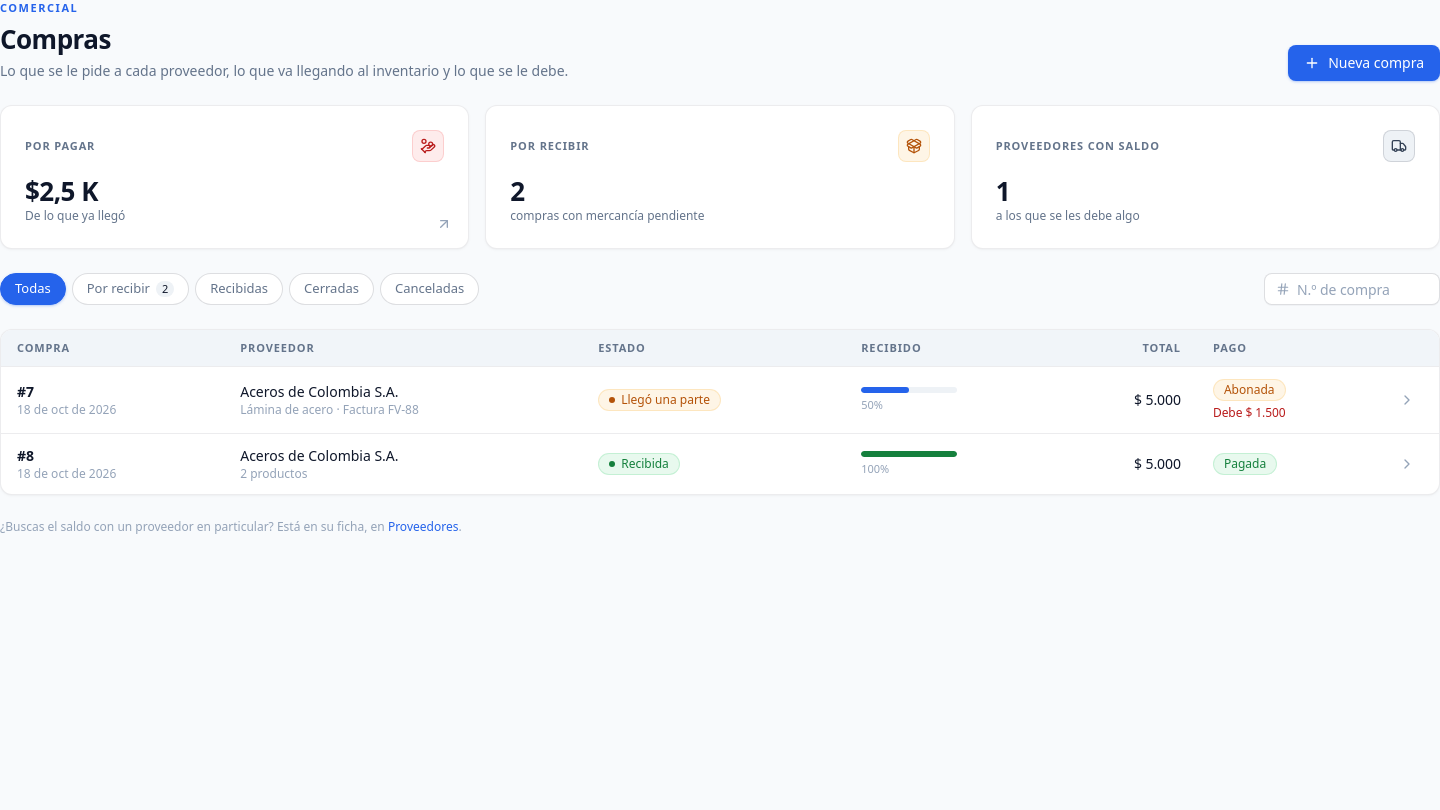
Test: PurchaseOrdersPage › opens the new purchase form only for an ADMIN
The image size is (1440, 810).
Expected: the text "#7" is shown, x1=17 y1=382 x2=34 y2=401
Click the button "Nueva compra": [1364, 63] box x1=1288 y1=45 x2=1439 y2=81
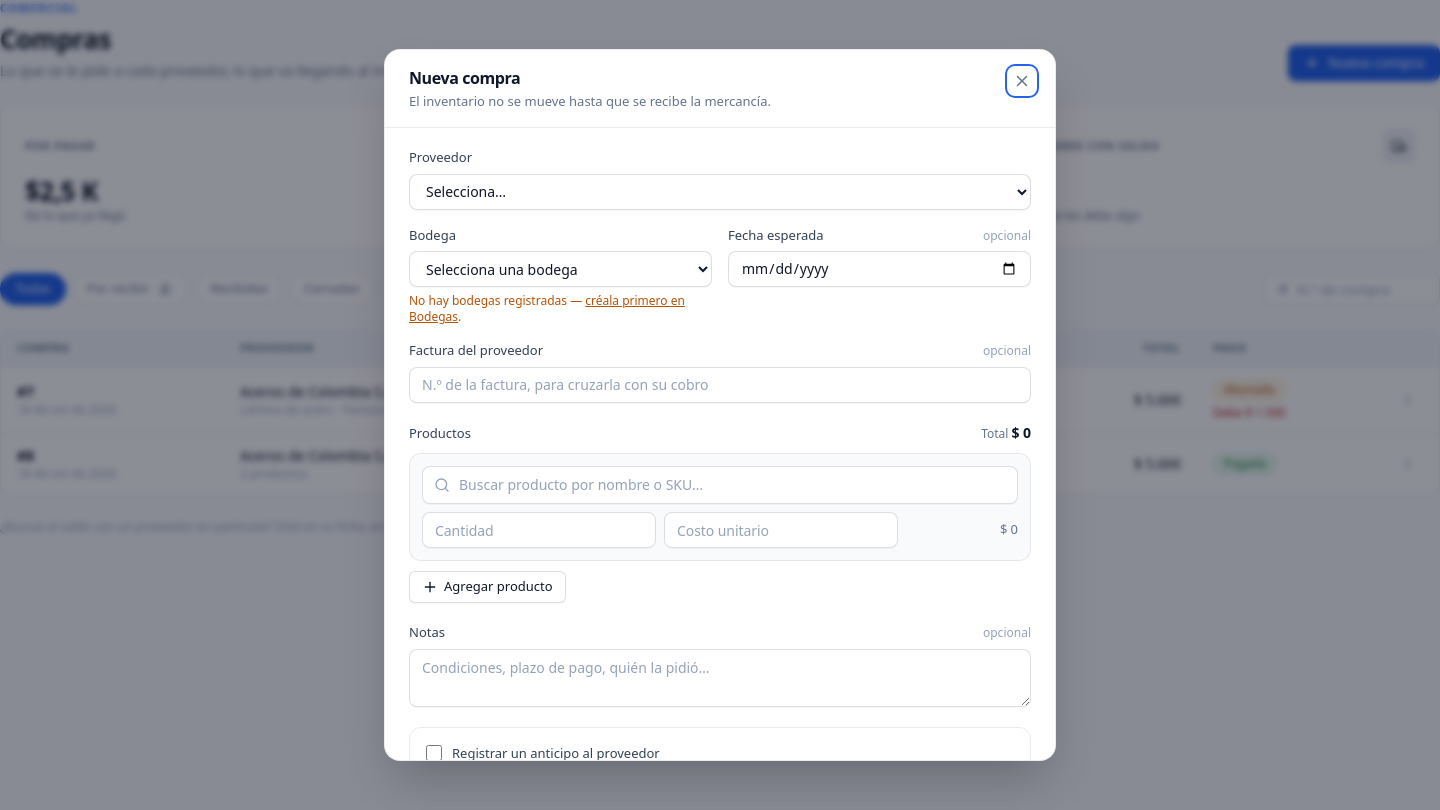
Result: the dialog "Nueva compra" is shown at x1=384 y1=49 x2=1056 y2=761
